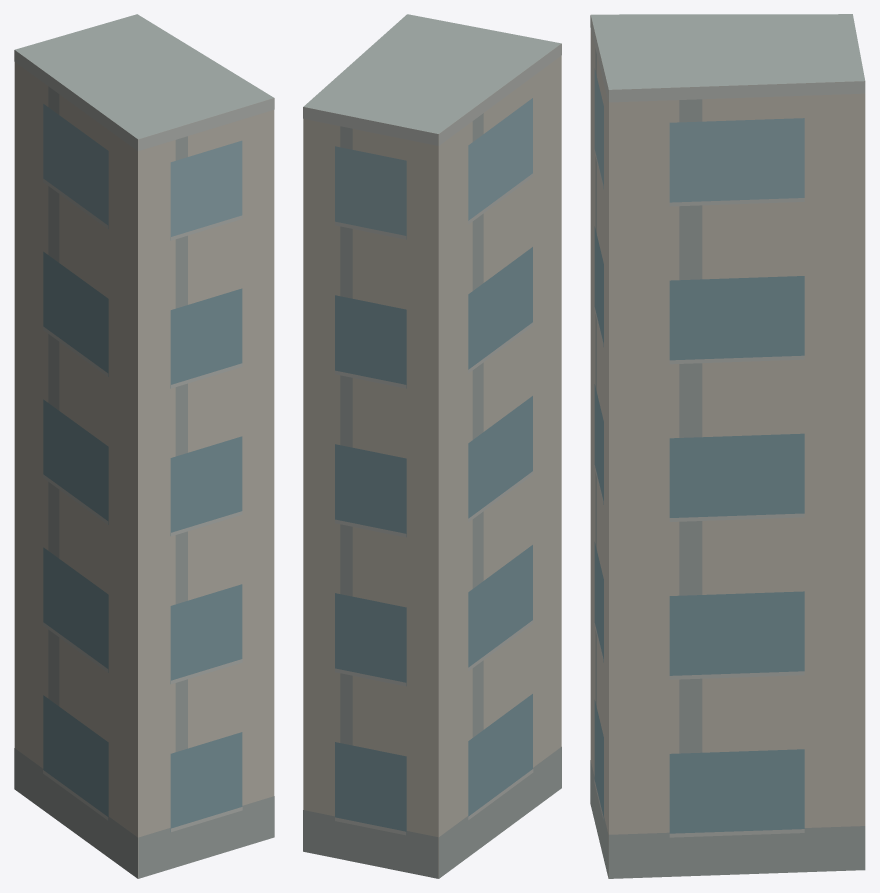
The model's file is survey-upis-32935176.glb.
3 renders of one model, left to right at view 1: azimuth 30°, elevation 25°; view 2: azimuth 150°, elevation 25°; view 3: azimuth 270°, elevation 25°, orthographic. The views are drawn at different scales.
Visible parts, largest first — view 1: survey-upis-32935176.tmp; view 2: survey-upis-32935176.tmp; view 3: survey-upis-32935176.tmp.
Part boxes in pixels (x1,y1,x2,y2): survey-upis-32935176.tmp: (14,14,274,878); survey-upis-32935176.tmp: (303,14,561,878); survey-upis-32935176.tmp: (590,14,865,878).
Bounding box in the file's own units: 3.16 × 15.25 × 4.82.
